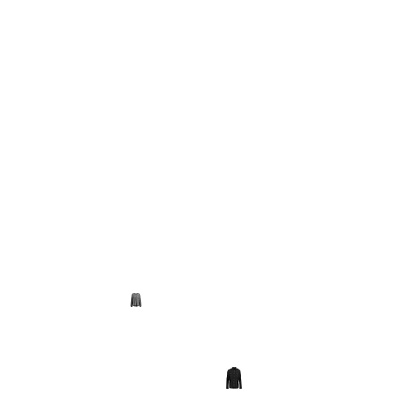Shirt: (223, 367, 245, 389), (129, 293, 143, 307)
